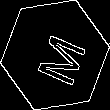M_W: (25, 24, 85, 86)
